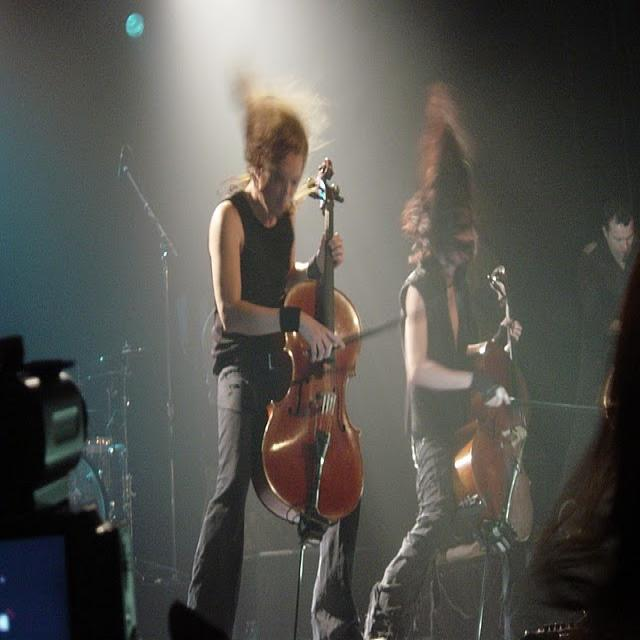cello: (254, 157, 363, 540), (447, 263, 533, 547)
drums: (48, 342, 138, 580)
